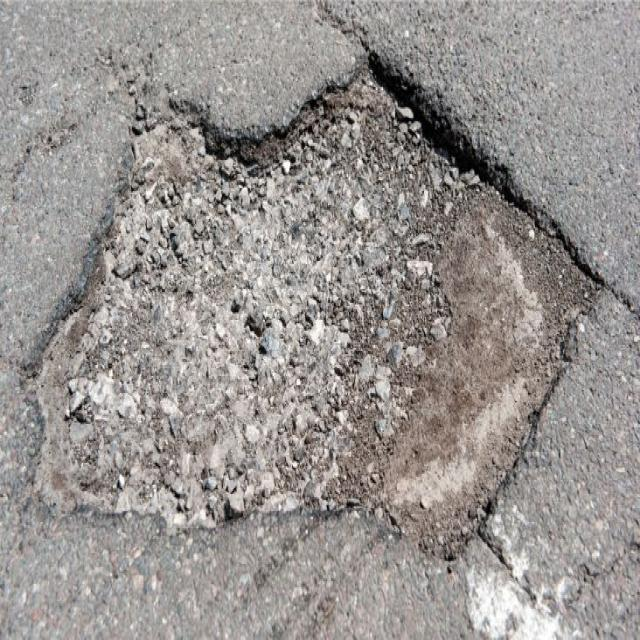pothole: (20, 40, 602, 572)
